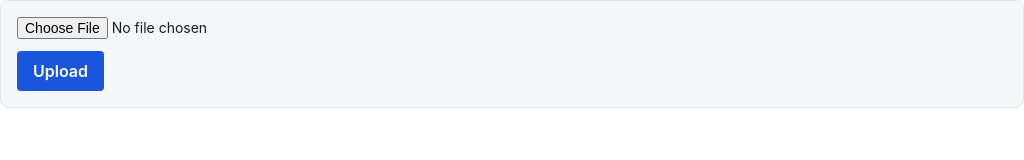
UploadForm › requires a file before submitting
Click the button "Upload": click(60, 71) x1=17 y1=51 x2=104 y2=91
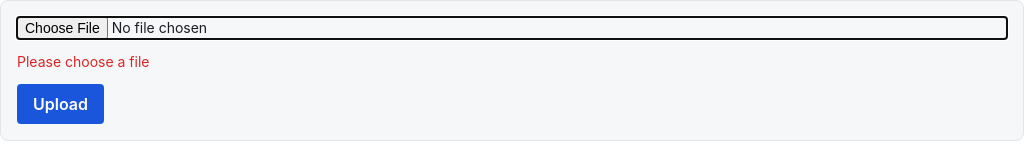
Expected: the text "Please choose a file" is shown, x1=17 y1=53 x2=150 y2=70
